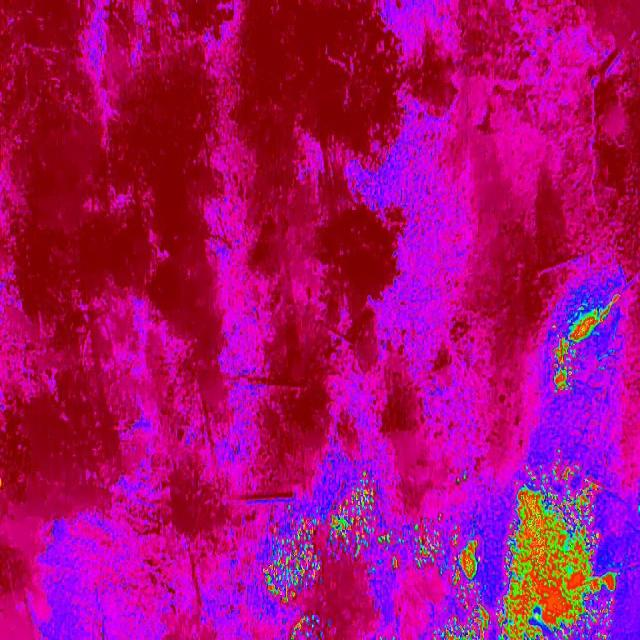fire: (493, 467, 623, 640), (538, 283, 628, 397), (255, 512, 332, 606), (322, 474, 389, 572), (407, 510, 487, 580), (430, 596, 490, 640), (282, 612, 338, 640)
